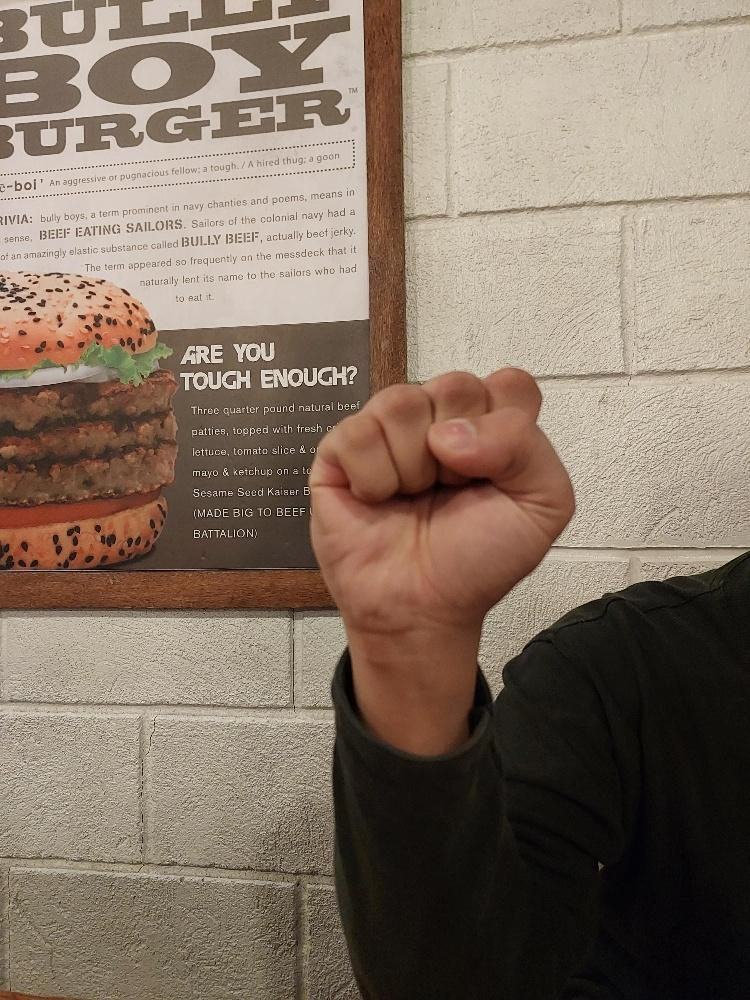s: (307, 362, 577, 638)
